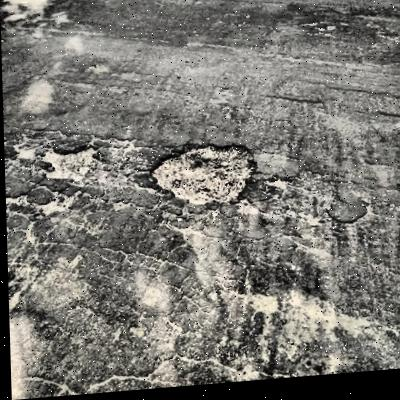pothole: (146, 141, 257, 213), (37, 142, 100, 185)
